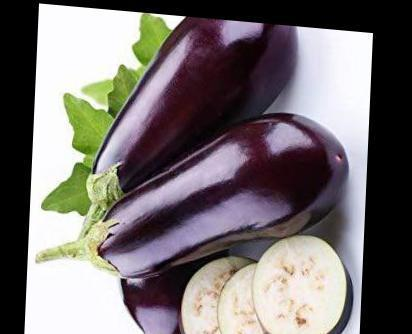eggplant: (42, 3, 362, 333)
